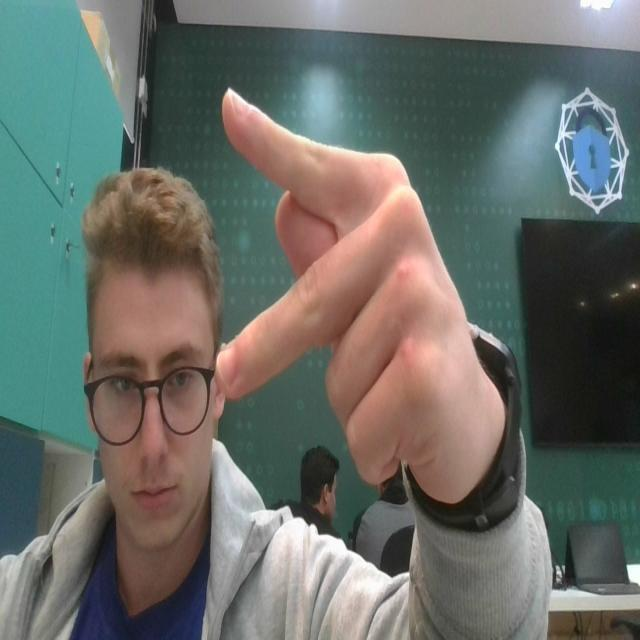P: (211, 71, 472, 493)
